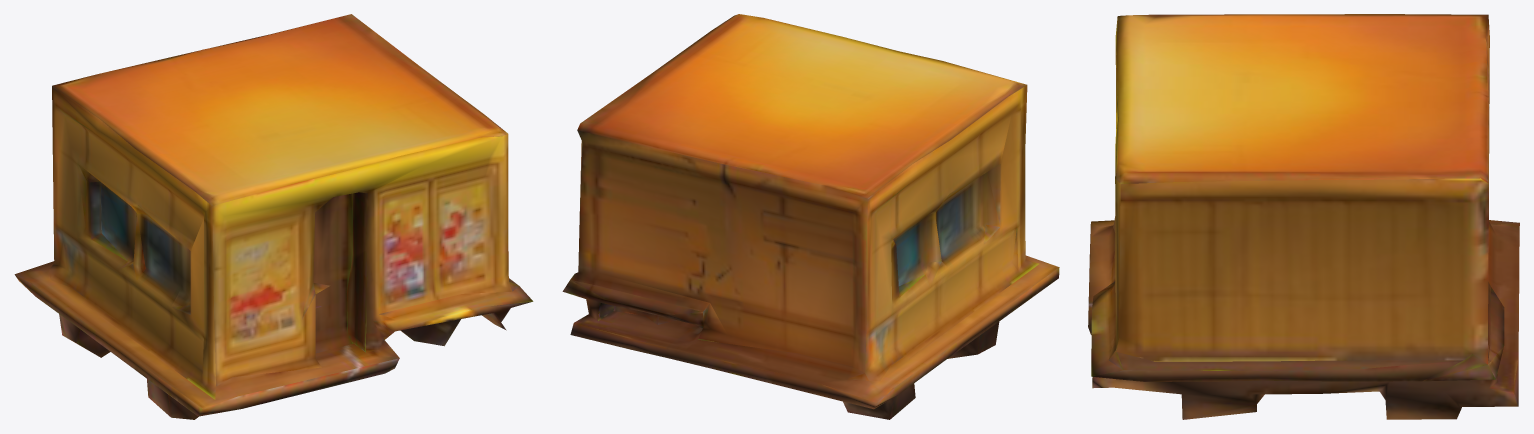
The model's file is dumpster.fbx.
The picture shows the model from 3 angles, left to right: view 1: azimuth 30°, elevation 25°; view 2: azimuth 150°, elevation 25°; view 3: azimuth 270°, elevation 25°; orthographic projection. The views are drawn at different scales.
Visible parts, largest first — view 1: Mesh_0.005; view 2: Mesh_0.005; view 3: Mesh_0.005.
Part boxes in pixels (x1,y1,x2,y2): Mesh_0.005: (14, 14, 533, 419); Mesh_0.005: (562, 14, 1059, 419); Mesh_0.005: (1088, 14, 1519, 419).
Bounding box in the file's own units: 180 × 129 × 176.
